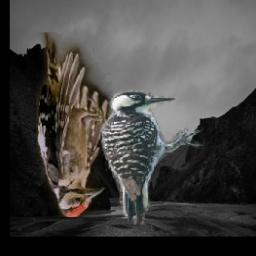Woodpecker: (37, 32, 116, 217), (96, 90, 203, 225)
